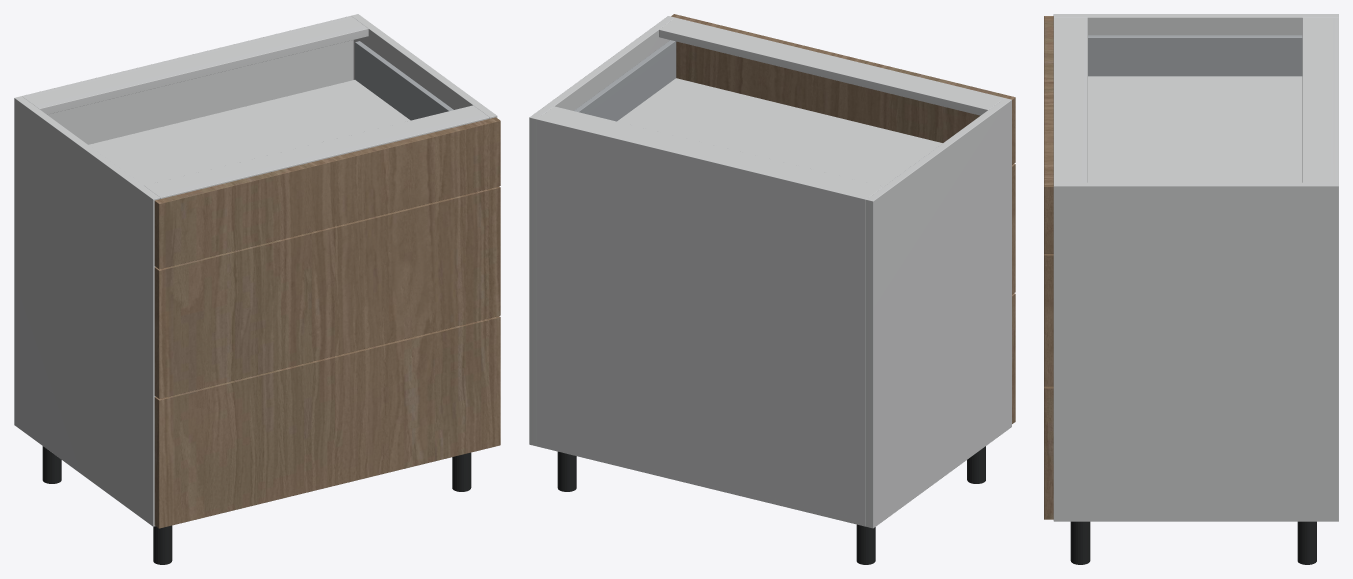
Rendered from oppein-pb-mnw-3db33.glb.
The picture shows the model from 3 angles, left to right: view 1: azimuth 30°, elevation 25°; view 2: azimuth 150°, elevation 25°; view 3: azimuth 270°, elevation 25°; orthographic projection. The views are drawn at different scales.
Parts seen in each view (by area): view 1: Cabinet side, Drawer front, Drawer front.001, Drawer front.002, Drawer floor.002, Cabinet back, Top support rail, Top support rail.001, Drawer side.005, Cabinet side.001, Adjustable foot.001, Adjustable foot.003 (+1 smaller); view 2: Cabinet back, Cabinet side, Drawer floor.002, Drawer front.002, Top support rail.001, Cabinet side.001, Top support rail, Drawer side.005, Adjustable foot, Adjustable foot.002; view 3: Cabinet side.001, Drawer floor.002, Drawer side.004, Top support rail.001, Top support rail, Cabinet side, Drawer front.002, Drawer front, Drawer front.001, Cabinet back, Adjustable foot.003, Adjustable foot.002.
Boxes of the visible parts, box(x1,y1,x2,y2) form: Cabinet side: box(14, 96, 160, 526); Drawer front: box(154, 316, 500, 528); Drawer front.001: box(154, 186, 500, 398); Drawer front.002: box(154, 117, 500, 269); Drawer floor.002: box(88, 80, 410, 185); Cabinet back: box(22, 16, 353, 144); Top support rail: box(24, 17, 368, 114); Top support rail.001: box(144, 105, 489, 198); Drawer side.005: box(355, 41, 453, 120); Cabinet side.001: box(351, 14, 497, 118); Adjustable foot.001: box(153, 525, 172, 564); Adjustable foot.003: box(452, 452, 471, 491); Cabinet back: box(536, 117, 867, 526); Cabinet side: box(866, 98, 1011, 528); Drawer floor.002: box(617, 78, 942, 186); Drawer front.002: box(671, 14, 1015, 164); Top support rail.001: box(659, 17, 1004, 115); Cabinet side.001: box(529, 16, 674, 446); Top support rail: box(540, 106, 883, 198); Drawer side.005: box(574, 40, 676, 121); Adjustable foot: box(856, 524, 875, 564); Adjustable foot.002: box(557, 451, 576, 491); Cabinet side.001: box(1053, 182, 1338, 521); Drawer floor.002: box(1088, 76, 1302, 182); Drawer side.004: box(1088, 35, 1302, 76); Top support rail.001: box(1053, 17, 1087, 182); Top support rail: box(1302, 17, 1333, 182); Cabinet side: box(1053, 14, 1338, 35); Drawer front.002: box(1044, 16, 1053, 253); Drawer front: box(1044, 386, 1053, 519); Drawer front.001: box(1044, 254, 1053, 386); Cabinet back: box(1333, 17, 1338, 182); Adjustable foot.003: box(1070, 521, 1090, 564); Adjustable foot.002: box(1297, 521, 1316, 564).
Size of the model in its own units: 0.8382 by 0.8763 by 0.6064.
4 materials, 1 textured.
